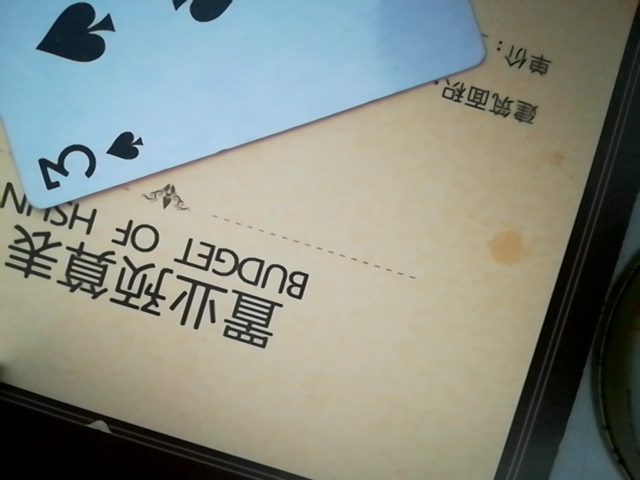ht 3: (3, 0, 493, 213)
